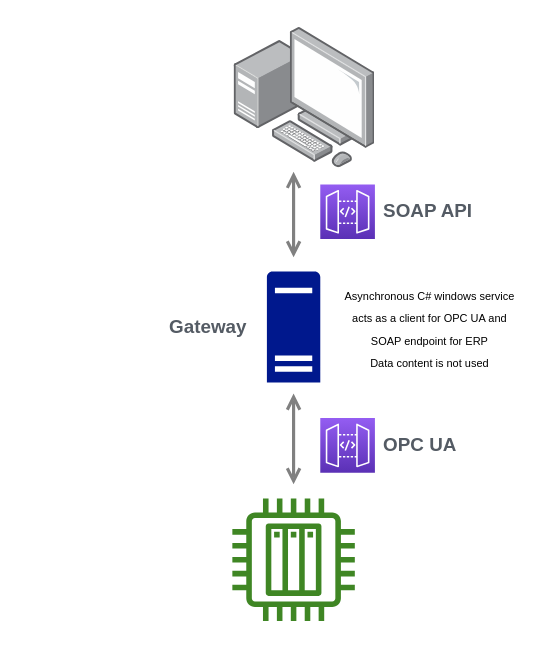
Some shapes in this 559 by 647 pixel diagram are drawn without their labels. The shapes that lost their labels are listed below. From the top down, each one's centre as x and y in pixels, then its label:
point (304, 97): AT2Rad ERP System
point (293, 559): Siemens PLC
